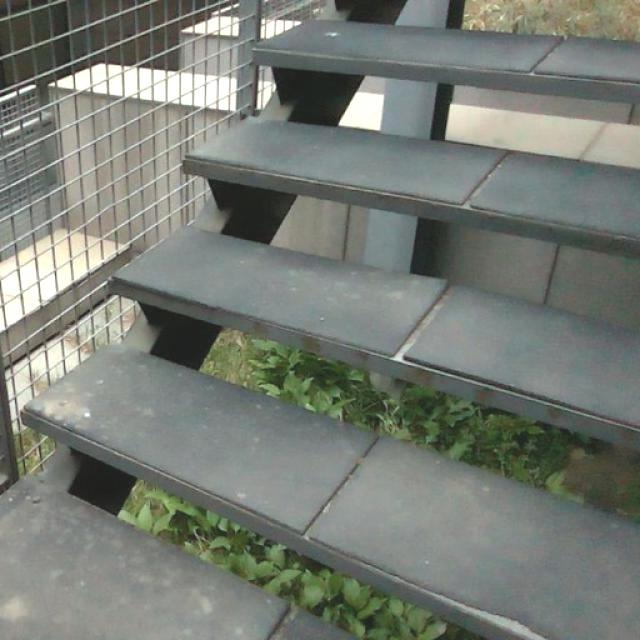stair: (113, 18, 640, 554)
